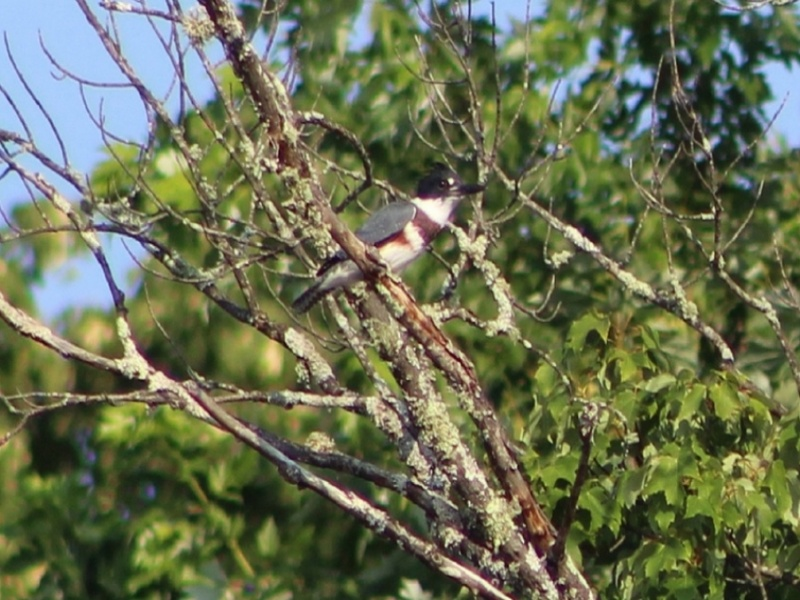kingfisher: (291, 158, 486, 316)
